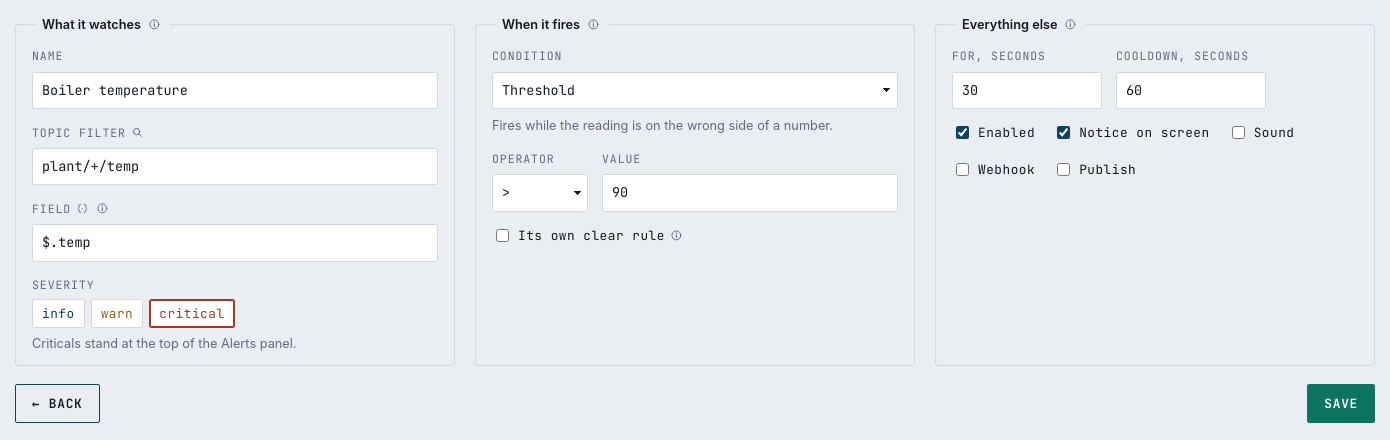
what the editor refuses before the request › refuses a publish topic outside the tree this server publishes into
Click the checkbox labelled "Publish" at (1064, 170), box [1057,163,1070,176]
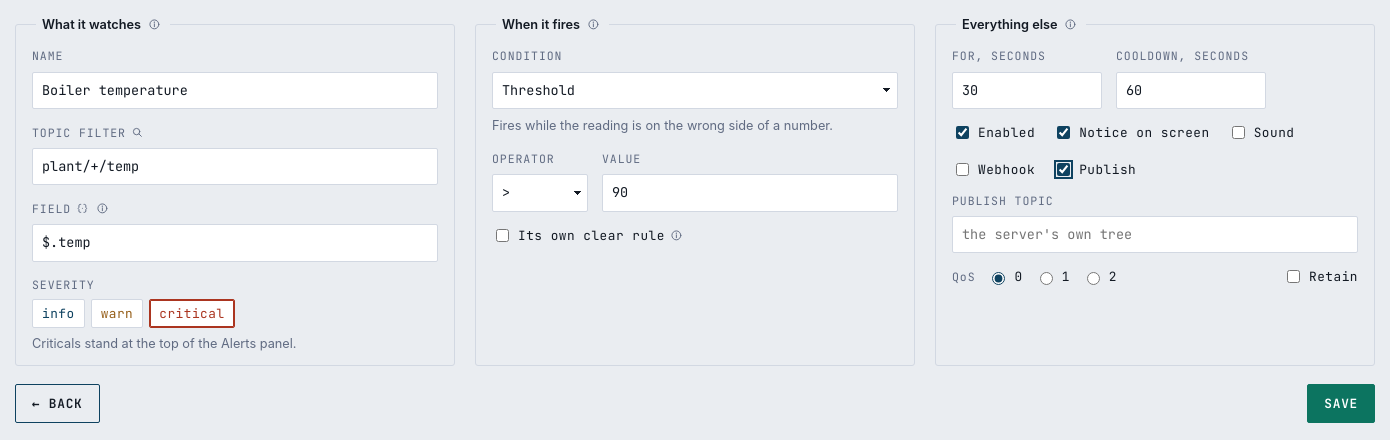
Type "plant/boiler/alarm" into the field labelled "Publish topic" at (1155, 235), box [952,216,1358,253]
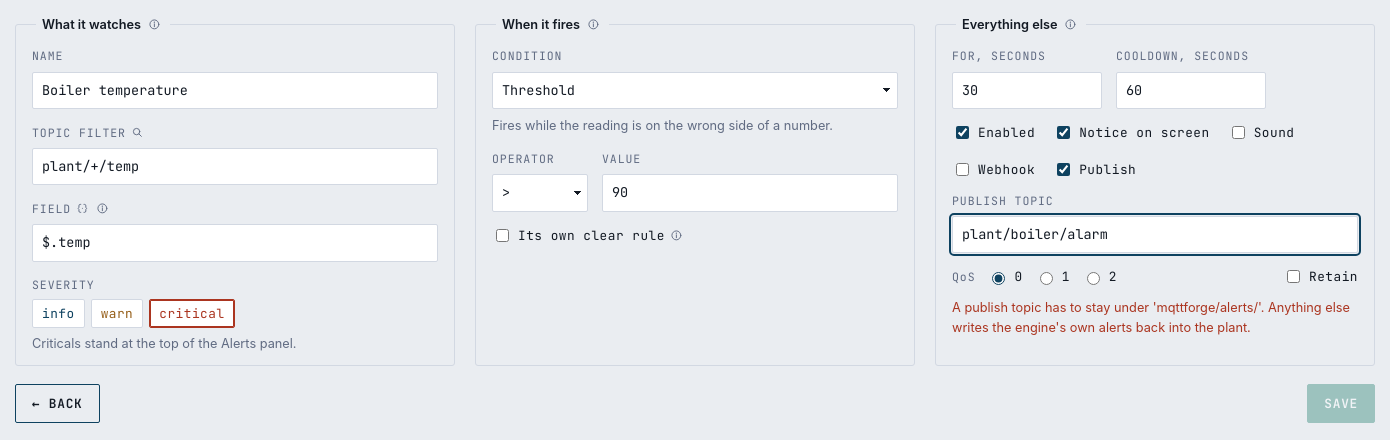
Now the text "mqttforge/alerts/" is shown, box [952,300,1350,335]
Now the button "Save" is disabled, box [1307,384,1375,423]
